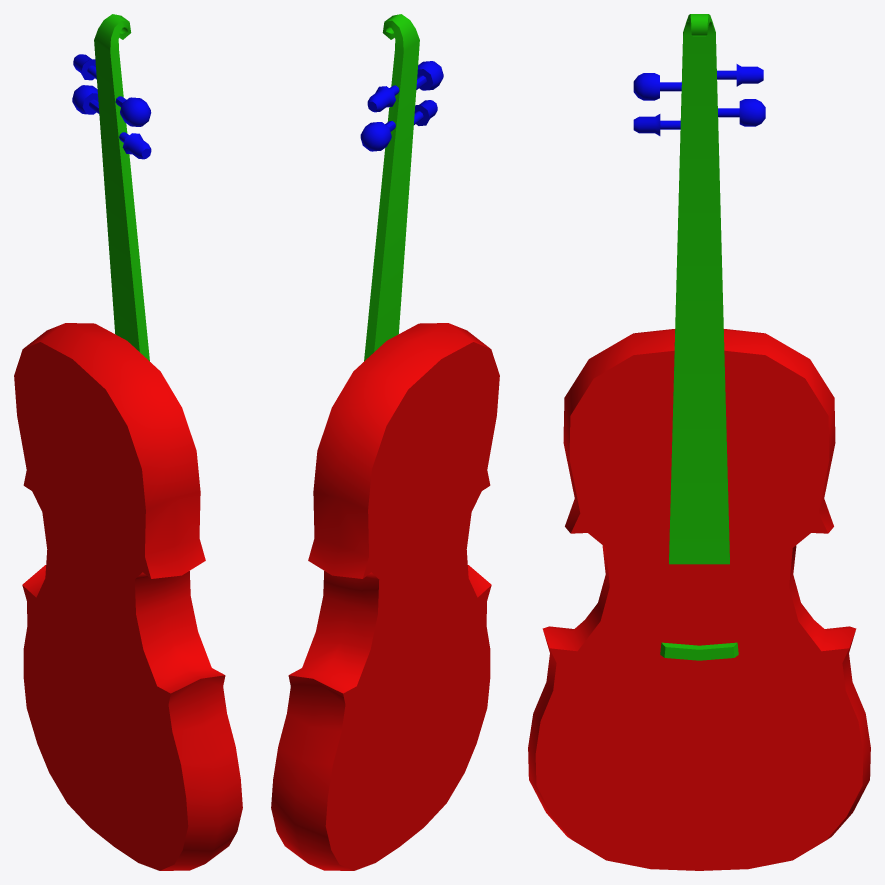
The model's file is Instrument2.fbx.
3 views of the same model, side by side, from view 1: azimuth 30°, elevation 25°; view 2: azimuth 150°, elevation 25°; view 3: azimuth 270°, elevation 25° (orthographic).
Visible parts, largest first — view 1: Instrument2; view 2: Instrument2; view 3: Instrument2.
Boxes of the visible parts, x1,y1,x2,y2 form: Instrument2: [14, 14, 242, 870]; Instrument2: [271, 14, 499, 870]; Instrument2: [528, 14, 870, 870].
Bounding box in the file's own units: 0.564 × 4.67 × 1.72.
